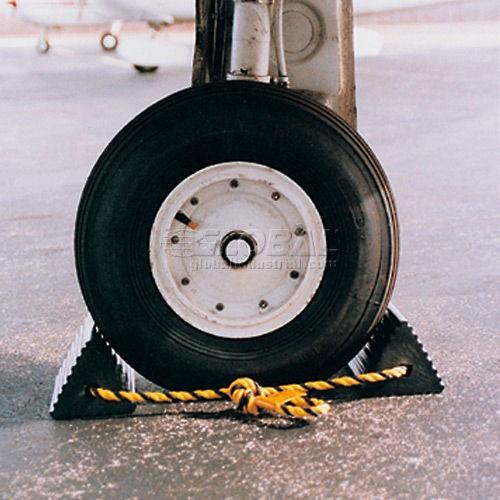chock: (348, 294, 445, 398), (48, 312, 137, 417)
wheel: (75, 81, 398, 390), (99, 31, 117, 51), (132, 63, 158, 73)
